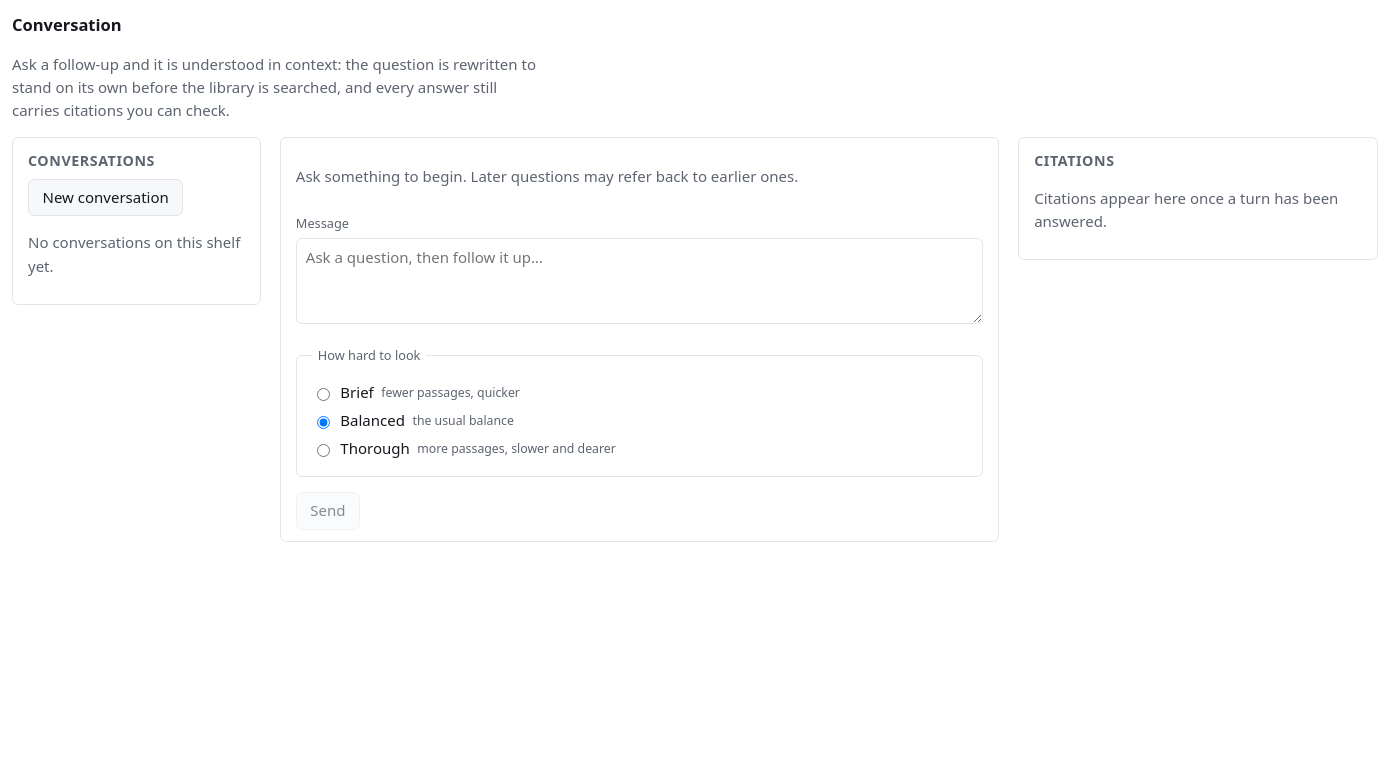
asking › shows the question immediately, before any answer arrives
In the text box: (640, 281) [296,238,983,324], type "¿Quién fue Jesucristo?"
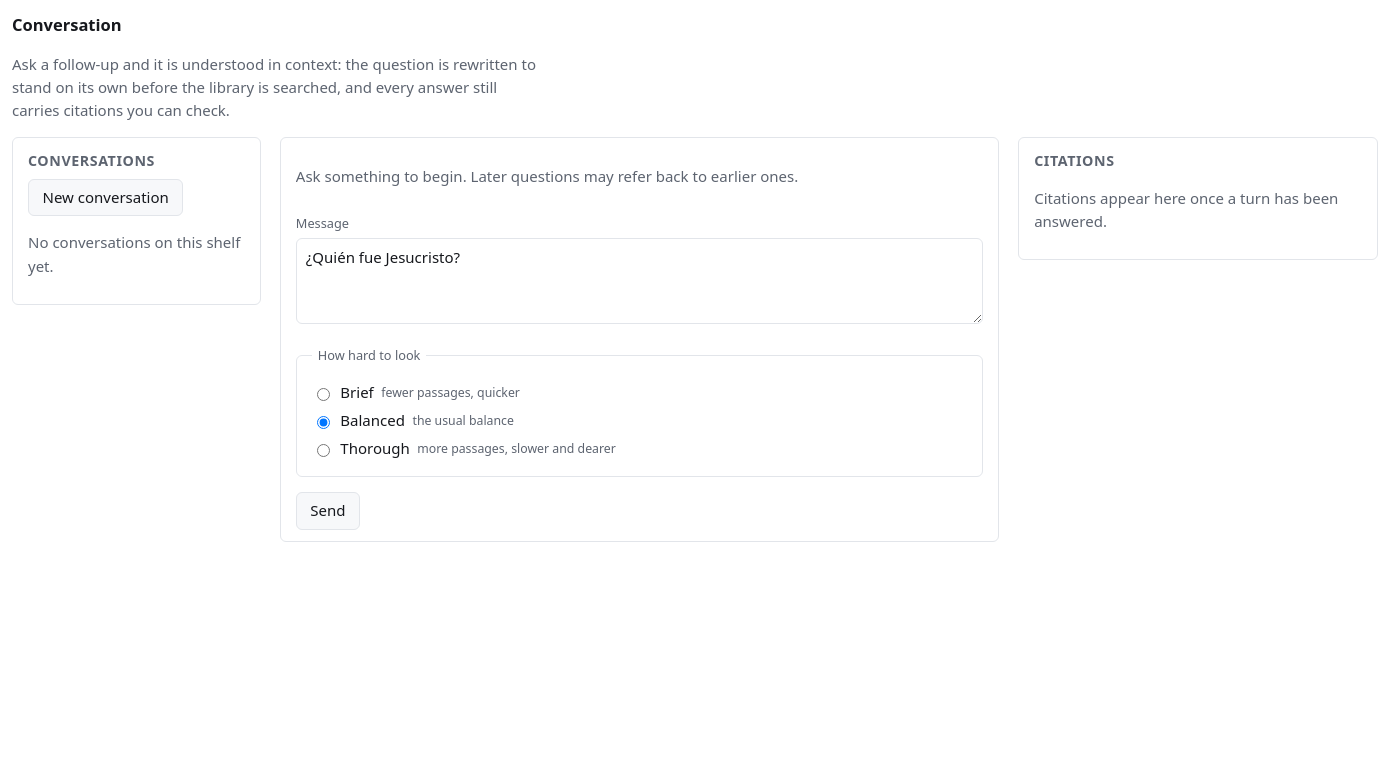
Now the button "Send" is enabled
Click the button "Send": (328, 511) [296,492,360,530]
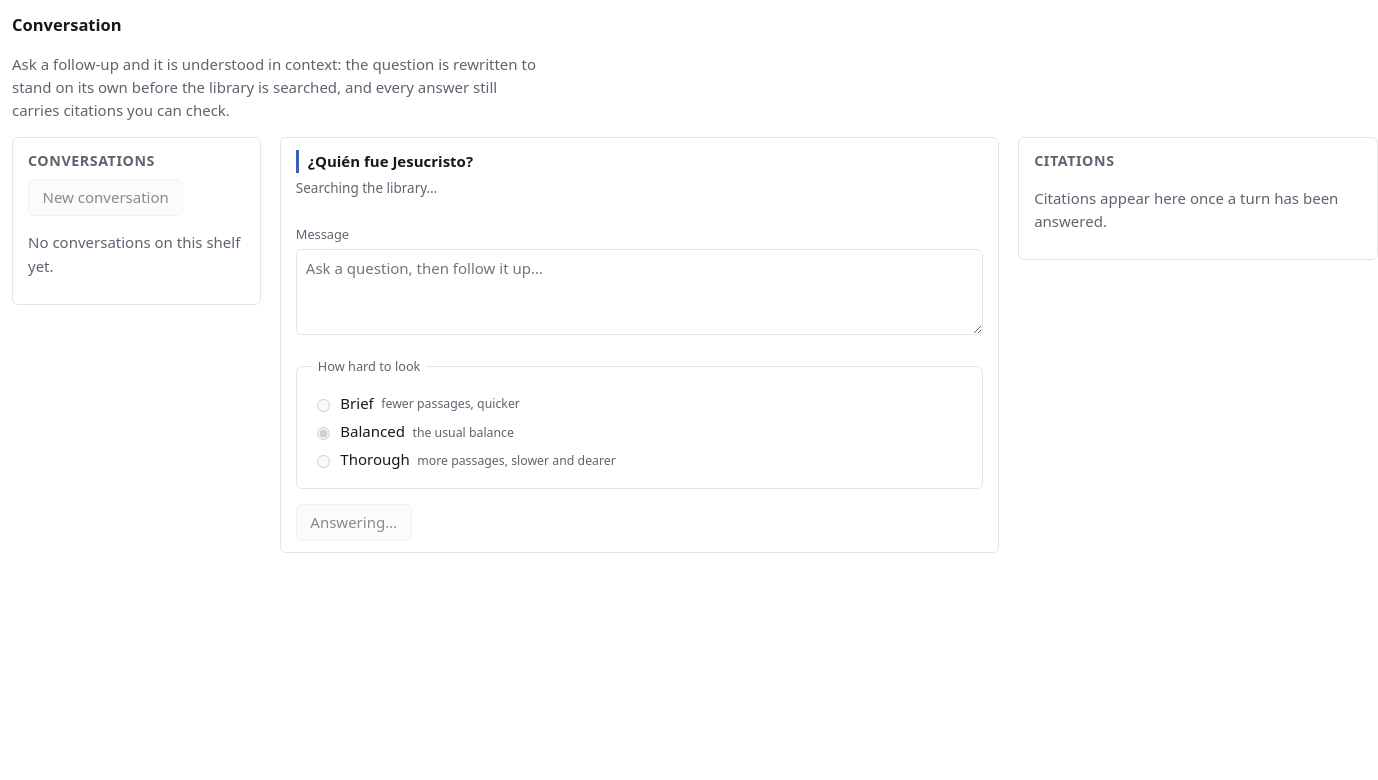
Now the text "¿Quién fue Jesucristo?" is shown, box [296,150,983,173]
